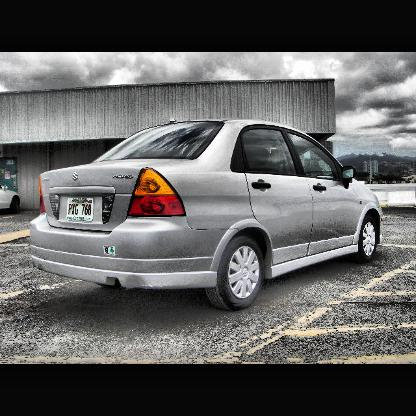Suzuki Aerio Sedan 2007: (29, 116, 385, 311)
